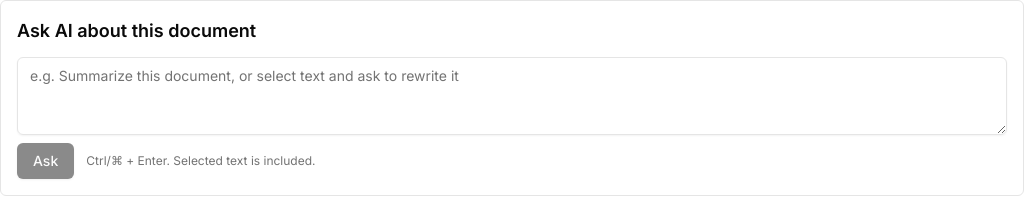
it: Ask button is disabled while the question box is empty
The width and height of the screenshot is (1024, 213).
Expected: the button "Ask" is disabled, [17,143,74,179]
Replace the text in the text box with "hello" at (512, 96), box [17,57,1007,135]
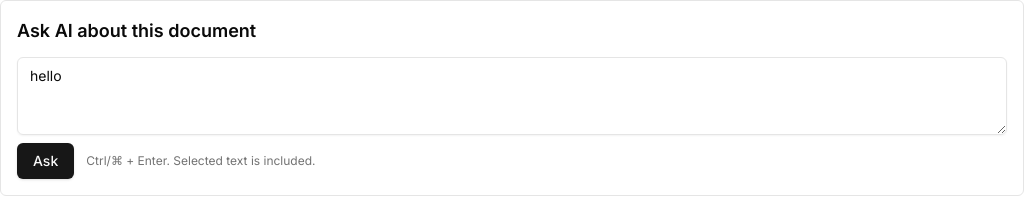
Expected: the button "Ask" is enabled, [17,143,74,179]
